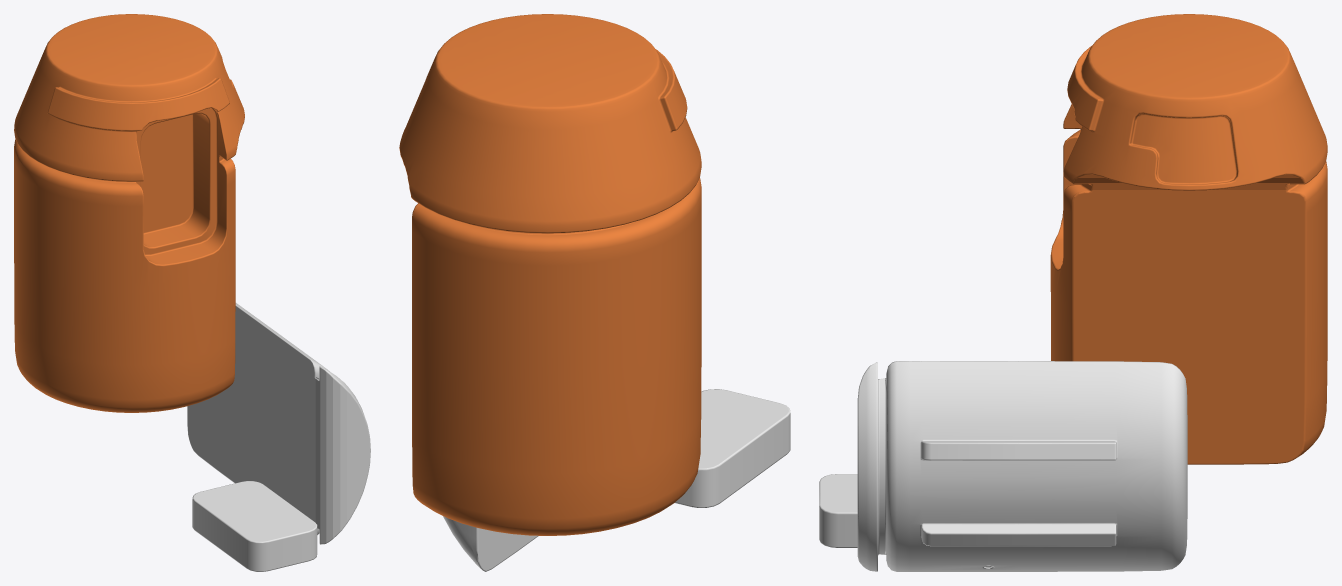
Rendered from Tank.fbx.
The picture shows the model from 3 angles, left to right: view 1: azimuth 30°, elevation 25°; view 2: azimuth 150°, elevation 25°; view 3: azimuth 270°, elevation 25°; orthographic projection. The views are drawn at different scales.
Parts seen in each view (by area): view 1: Power.003, Power.001, Power.002; view 2: Power.003, Power.002, Power.001; view 3: Power.003, Power.001, Power.002.
Part boxes in pixels (left/top/right/bottom): Power.003: left=14, top=14, right=244, bottom=412; Power.001: left=187, top=303, right=370, bottom=544; Power.002: left=192, top=481, right=317, bottom=571; Power.003: left=399, top=14, right=701, bottom=535; Power.002: left=675, top=389, right=790, bottom=507; Power.001: left=443, top=516, right=538, bottom=571; Power.003: left=1050, top=14, right=1327, bottom=464; Power.001: left=857, top=361, right=1187, bottom=571; Power.002: left=819, top=474, right=857, bottom=547.
Size of the model in its own units: 1.86 by 3.49 by 3.32.
